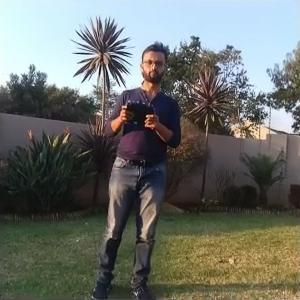follow: (86, 34, 180, 299)
